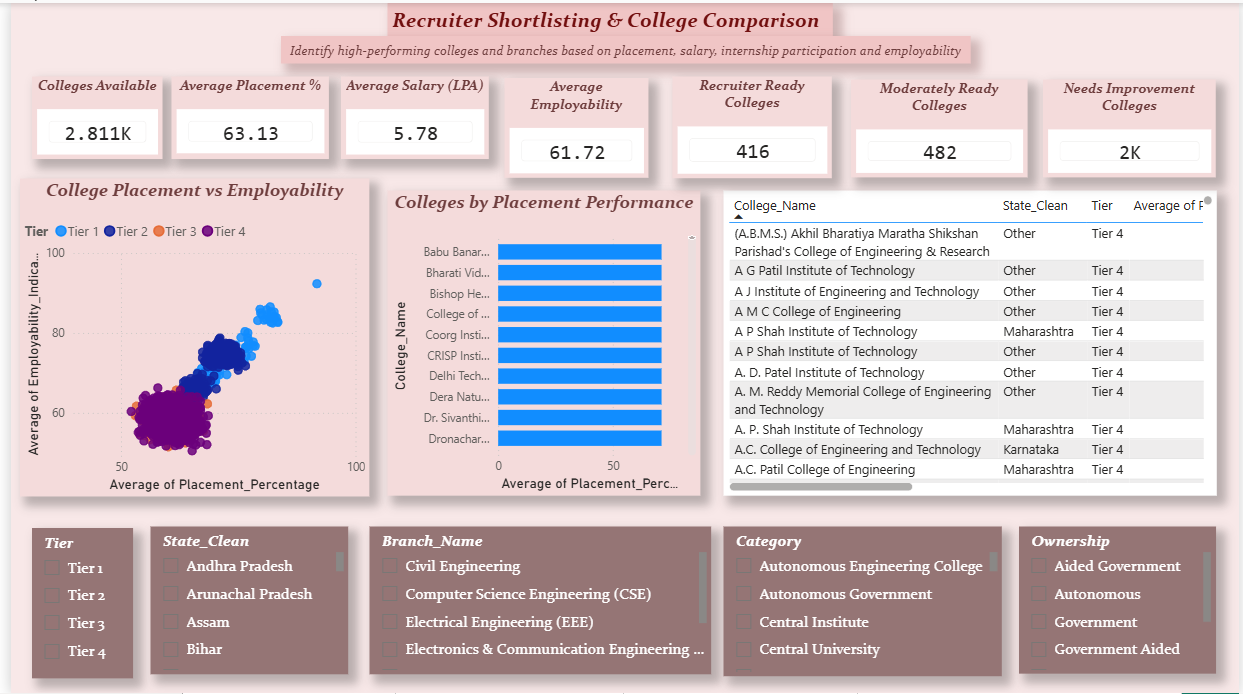

The page's visual inventory and layout, read from the dashboard file:
{"tool":"powerbi","page":{"name":"Recruiter Shortlisting","canvas":[1280,720],"ordinal":2},"visuals":[{"type":"textbox","box":[392.9,0,464.3,35.7],"z":0},{"type":"textbox","box":[281.7,35,718.3,28.3],"z":1000},{"type":"slicer","fields":{"Values":["Sheet1.Tier"]},"box":[21.7,546.7,105,156.7],"z":2000},{"type":"slicer","fields":{"Values":["Sheet1.State_Clean"]},"box":[146,546,206,154],"z":3000},{"type":"slicer","fields":{"Values":["Sheet1.Branch_Name"]},"box":[374,546,356,154],"z":4000},{"type":"slicer","fields":{"Values":["Sheet1.Category"]},"box":[742,546,290,156],"z":5000},{"type":"slicer","fields":{"Values":["Sheet1.Ownership"]},"box":[1050,546,205,153.3],"z":6000},{"type":"cardVisual","title":"Colleges Available","fields":{"Data":["Count(Sheet1.College_Name)"]},"box":[22,76,136,86],"z":7000},{"type":"cardVisual","title":"Average Placement %","fields":{"Data":["Avg(Sheet1.Placement_Percentage)"]},"box":[168,76,164.3,85.7],"z":8000},{"type":"cardVisual","title":"Average Salary (LPA)","fields":{"Data":["Avg(Sheet1.Average_Salary_LPA)"]},"box":[344,76,154,86],"z":9000},{"type":"cardVisual","title":"Average Employability","fields":{"Data":["Avg(Sheet1.Employability_Indicator)"]},"box":[514,78,150,104],"z":10000},{"type":"scatterChart","title":"College Placement vs Employability","fields":{"X":["Avg(Sheet1.Placement_Percentage)"],"Y":["Avg(Sheet1.Employability_Indicator)"],"Category":["Sheet1.College_Name"],"Series":["Sheet1.Tier"]},"box":[10,182.9,364.3,331.4],"z":11000},{"type":"tableEx","fields":{"Values":["Sheet1.College_Name","Sheet1.State_Clean","Sheet1.Tier","Avg(Sheet1.Placement_Percentage)","Avg(Sheet1.Average_Salary_LPA)","Avg(Sheet1.Internship_Participation_Pct)","Avg(Sheet1.Employability_Indicator)"]},"box":[742,196,514,318],"z":12000},{"type":"clusteredBarChart","title":"Colleges by Placement Performance","fields":{"Category":["Sheet1.College_Name"],"Y":["Avg(Sheet1.Placement_Percentage)"]},"box":[392,196,326,318],"z":13000},{"type":"cardVisual","title":"Recruiter Ready Colleges","fields":{"Data":["Sheet1.Recruiter Ready Colleges2"]},"box":[690,76,166,106],"z":14000},{"type":"cardVisual","title":"Moderately Ready Colleges","fields":{"Data":["Sheet1.Moderately Ready Colleges"]},"box":[876,80,184,102],"z":15000},{"type":"cardVisual","title":"Needs Improvement Colleges","fields":{"Data":["Sheet1.Needs Improvement Colleges"]},"box":[1076,80,180,102],"z":16000}]}

Visuals, with their boxes in screenshot pixels (x1, y1, x2, y2), scaled from the page's 1280x720 canvas onto the 1243x694 screenshot:
textbox: 382,0,832,34
textbox: 274,34,971,61
slicer - Sheet1.Tier: 21,527,123,678
slicer - Sheet1.State_Clean: 142,526,342,675
slicer - Sheet1.Branch_Name: 363,526,709,675
slicer - Sheet1.Category: 721,526,1002,677
slicer - Sheet1.Ownership: 1020,526,1219,674
"Colleges Available" cardVisual: 21,73,153,156
"Average Placement %" cardVisual: 163,73,323,156
"Average Salary (LPA)" cardVisual: 334,73,484,156
"Average Employability" cardVisual: 499,75,645,175
"College Placement vs Employability" scatterChart: 10,176,363,496
tableEx - Sheet1.College_Name x Sheet1.State_Clean: 721,189,1220,495
"Colleges by Placement Performance" clusteredBarChart: 381,189,697,495
"Recruiter Ready Colleges" cardVisual: 670,73,831,175
"Moderately Ready Colleges" cardVisual: 851,77,1029,175
"Needs Improvement Colleges" cardVisual: 1045,77,1220,175
